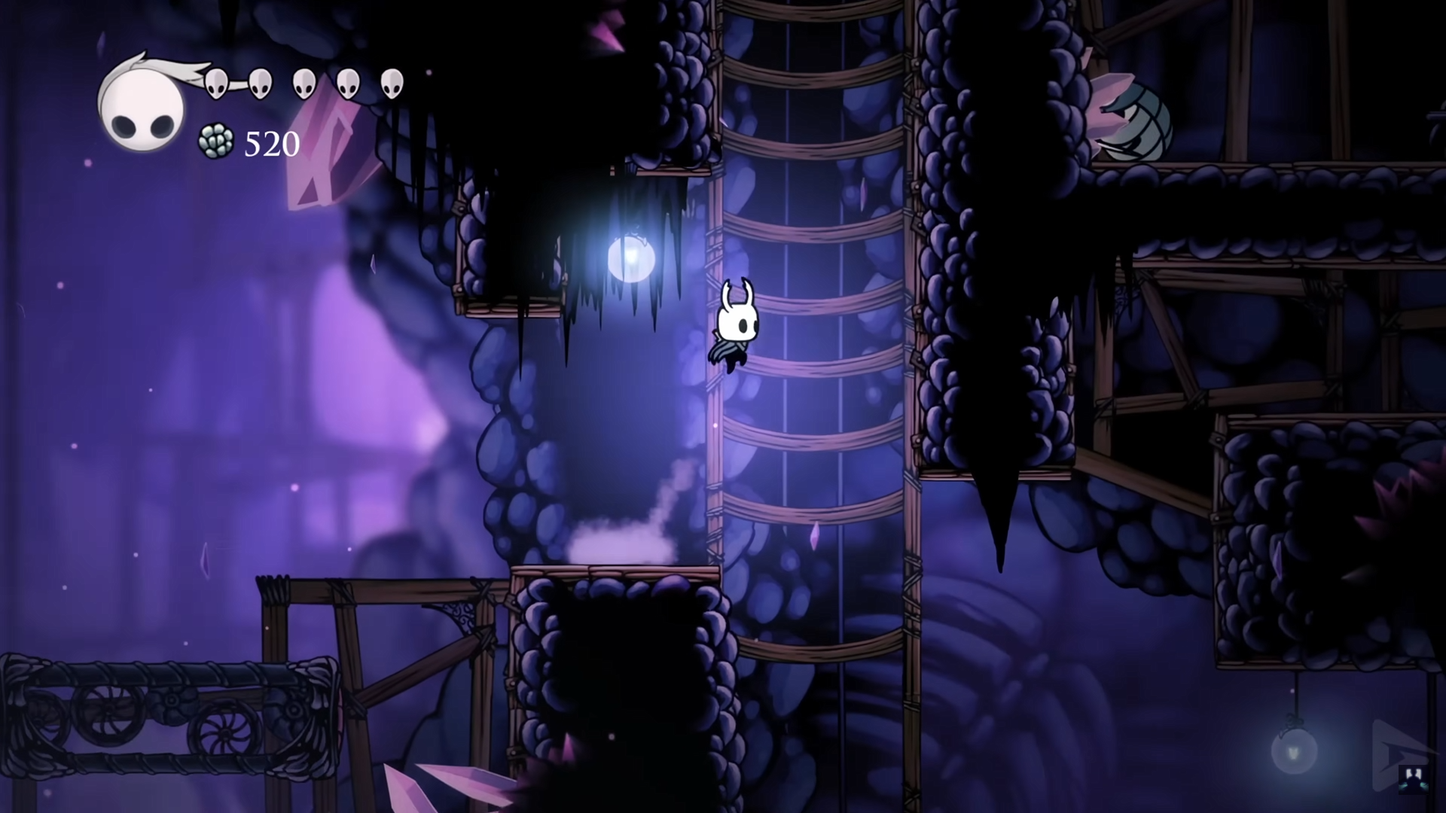HK: (703, 275, 765, 380)
